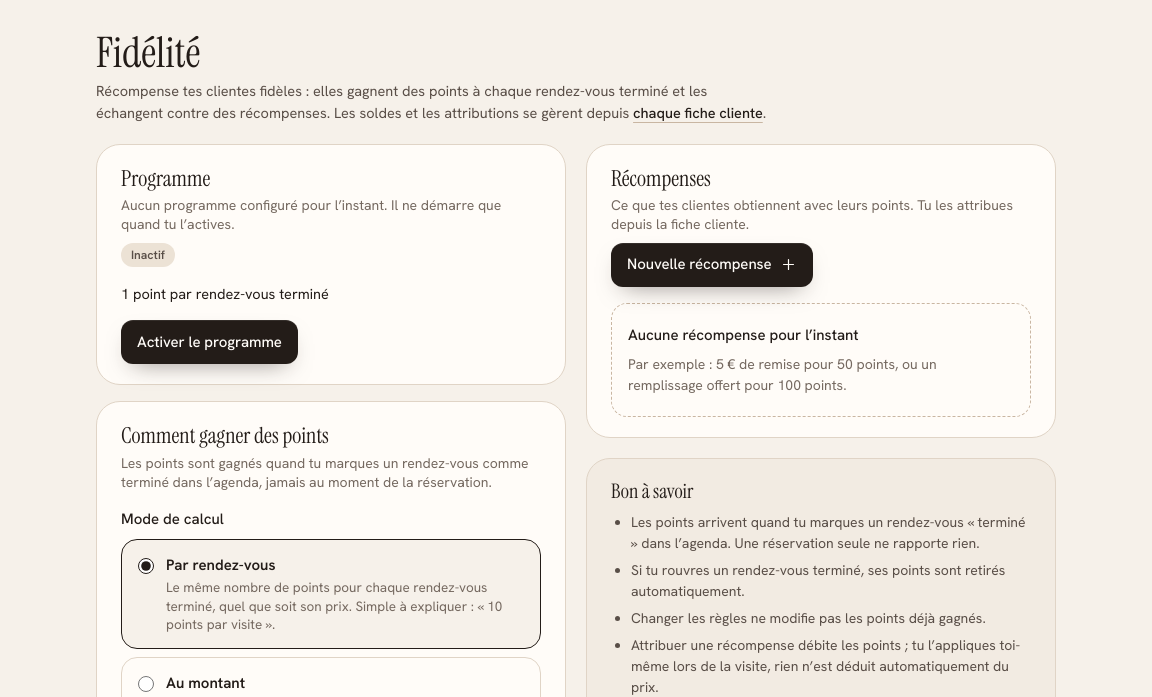
Test case: program › explains a business with no program yet, and activates it after an explicit confirmation
Expected: the text "Aucun programme configuré" is shown, [121,196,501,233]
Expected: the text "Inactif" is shown, [121,242,175,266]
Click the button "Activer le programme": {"x": 209, "y": 342} [121,320,298,364]
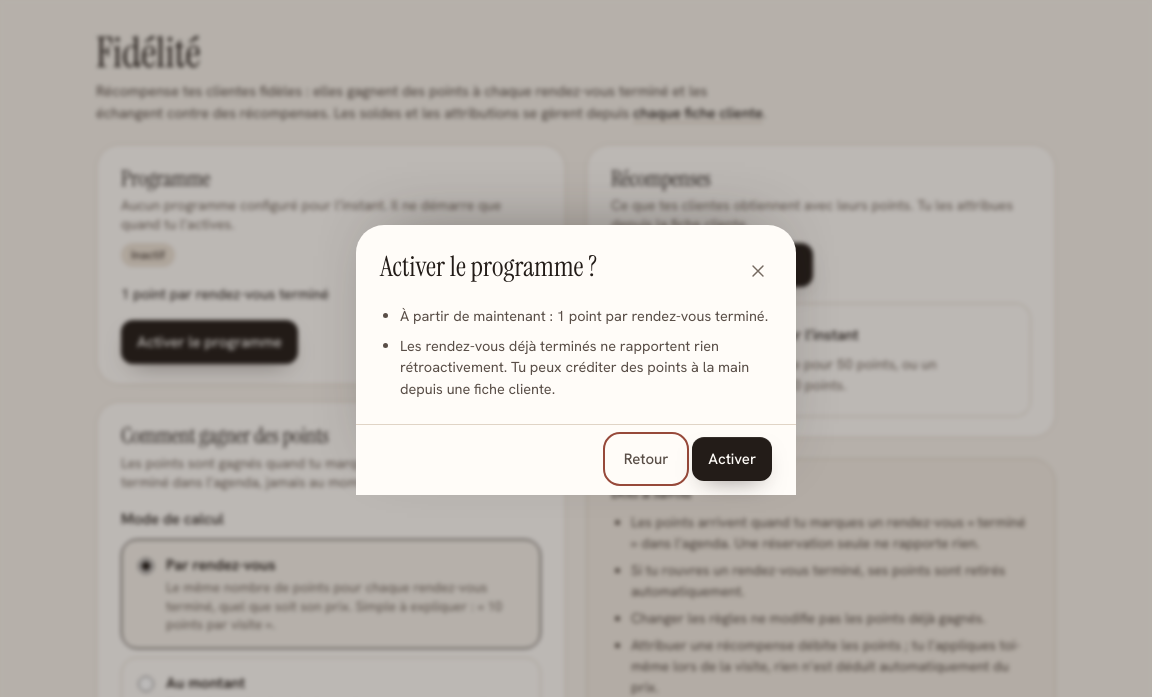
Result: the 2nd list item is shown at [400,336,749,398]
Click the button "Activer": {"x": 732, "y": 459} [692,437,772,481]
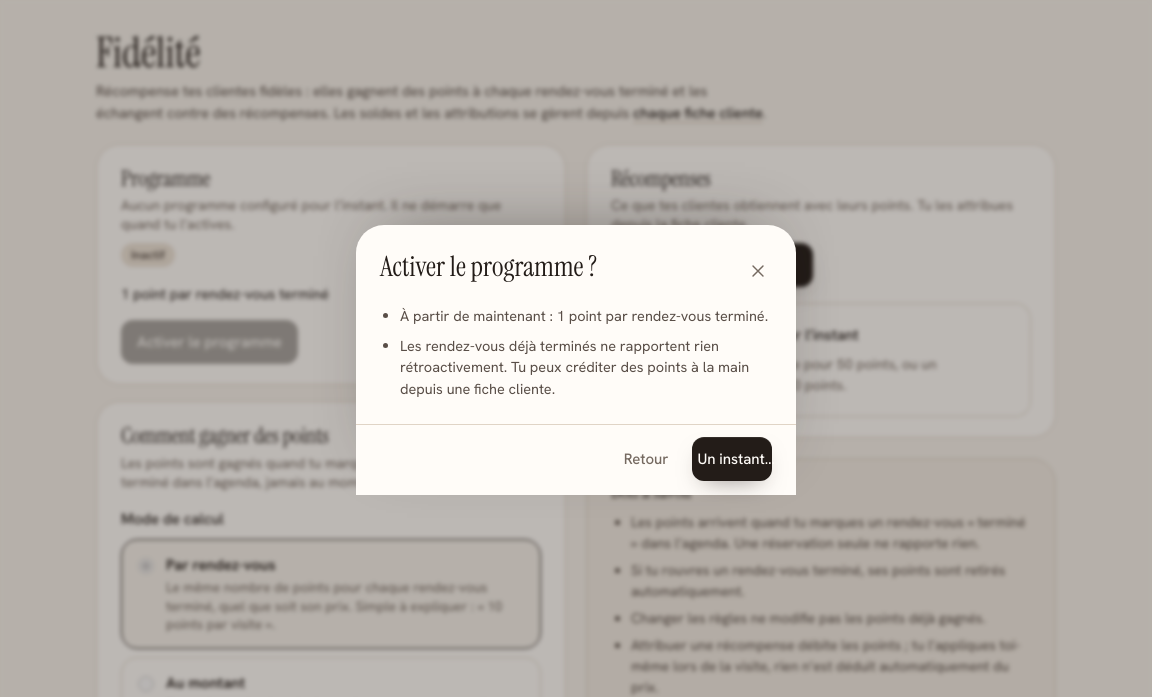
Click the button named "Activer": {"x": 732, "y": 459} [692,437,772,481]
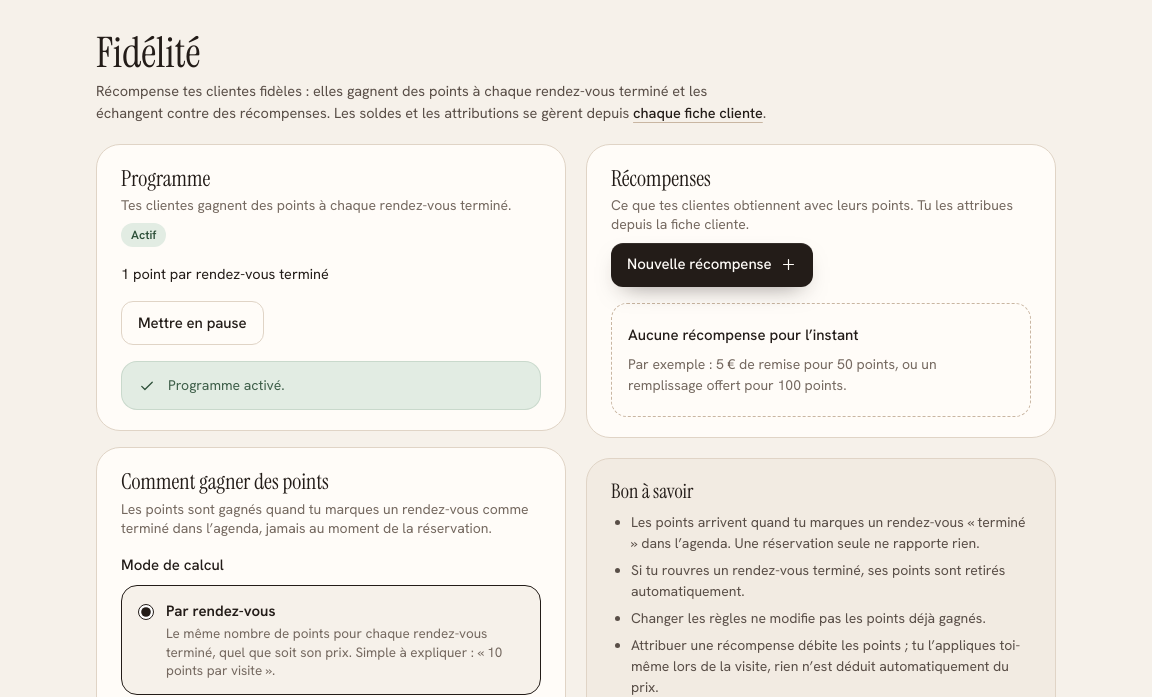
Expected: the text "Actif" is shown, [121,223,166,247]
Result: the text "Programme activé." is shown at [168,376,285,394]
